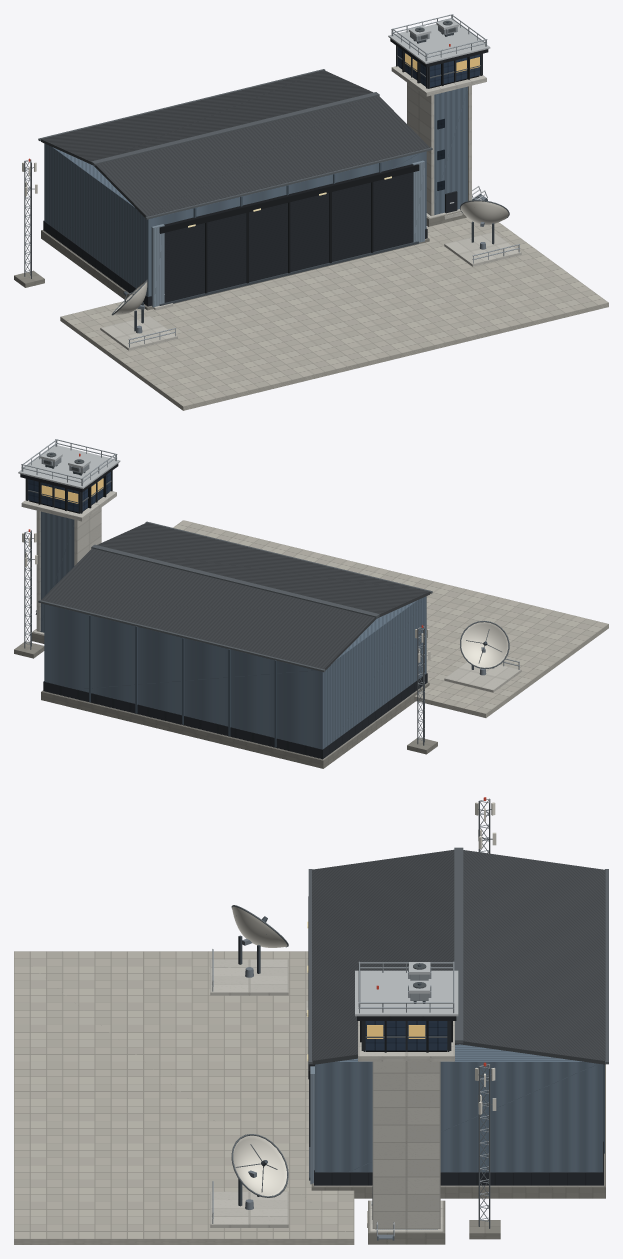
Rendered from el-6-built.glb.
The picture shows the model from 3 angles, top to bottom: view 1: azimuth 30°, elevation 25°; view 2: azimuth 150°, elevation 25°; view 3: azimuth 270°, elevation 25°; orthographic projection. The views are drawn at different scales.
Size of the model in its own units: 53.26 by 21.41 by 45.47.
Materials: 34 (21 with a texture image).
